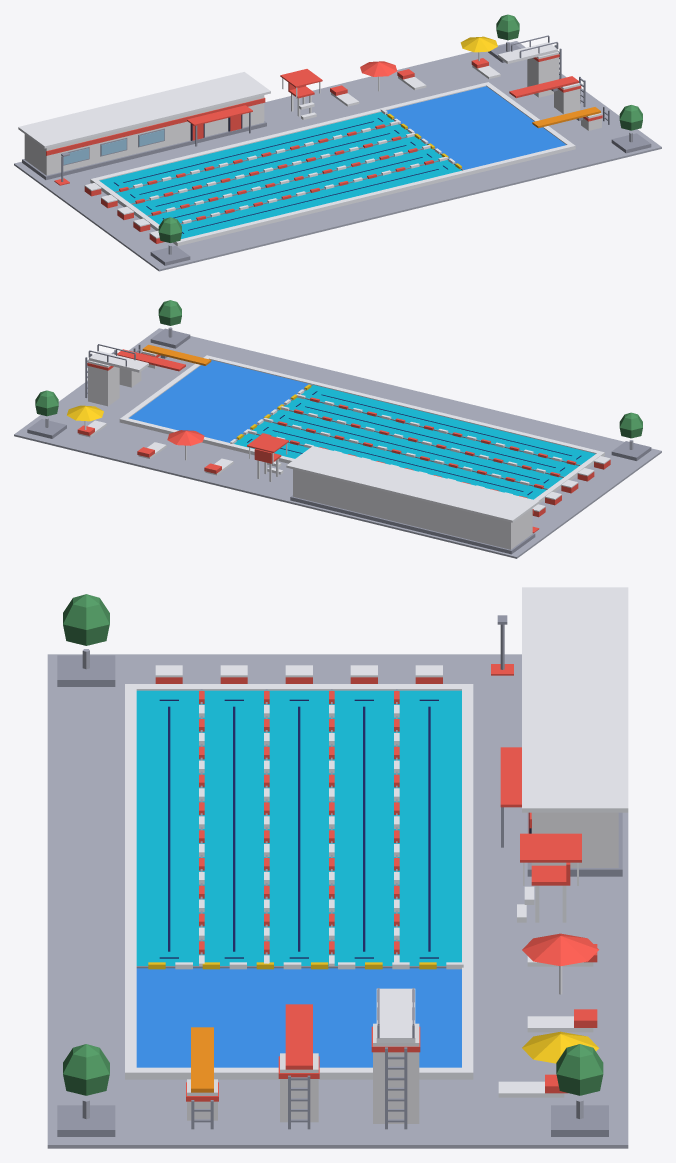
File: swimming-pool-6x3-tone-a.glb
The picture shows the model from 3 angles, top to bottom: view 1: azimuth 30°, elevation 25°; view 2: azimuth 150°, elevation 25°; view 3: azimuth 270°, elevation 25°; orthographic projection. The views are drawn at different scales.
Parts seen in each view (by area): view 1: swimming-pool-6x3-tone-a; view 2: swimming-pool-6x3-tone-a; view 3: swimming-pool-6x3-tone-a.
Boxes of the visible parts, <box> form: swimming-pool-6x3-tone-a: <box>14,14,661,271</box>; swimming-pool-6x3-tone-a: <box>14,300,661,558</box>; swimming-pool-6x3-tone-a: <box>47,587,628,1148</box>.
Bounding box in the file's own units: 6 × 0.59 × 3.
1 material, 1 textured.
